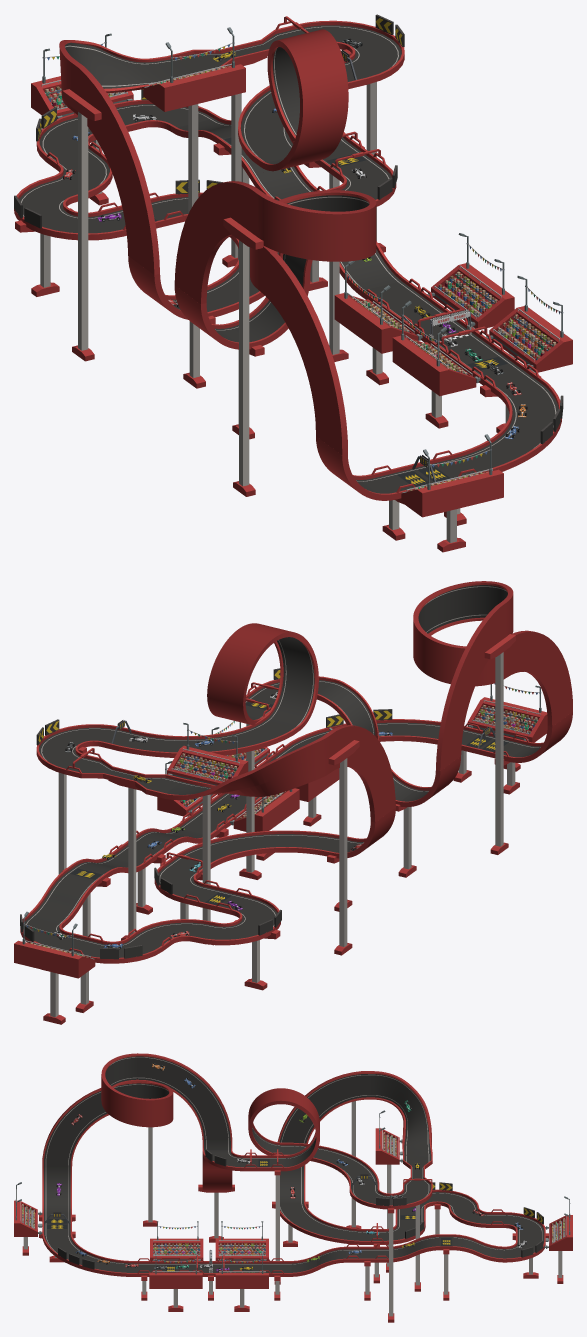
File: loopRacetrack.fbx
The picture shows the model from 3 angles, top to bottom: view 1: azimuth 30°, elevation 25°; view 2: azimuth 150°, elevation 25°; view 3: azimuth 270°, elevation 25°; orthographic projection. The views are drawn at different scales.
Parts seen in each view (by area): view 1: SR_Env_Raised_Track_Loop_Full_Red_1, SR_Env_Raised_Track_Loop_Full_Red, SR_Env_Raised_Track_Corner_Wide_Red_1, SR_Env_Raised_Track_Corner_Wide_Red_4, SR_Env_Raised_Track_Corner_Wide_Red_2, SR_Bld_Stands_Attach_Red_2 (×2), SR_Bld_Stands_Attach_Red_1 (×2), SR_Env_Raised_Track_Corner_Wide_Red, SR_Env_Raised_Track_Slope_Corner_Transition_Red, SR_Bld_Stands_Attach_Red_3 (×2), SR_Bld_Stands_Attach_Red, SR_Env_Raised_Track_Corner_Wide_Red_3 (+24 smaller); view 2: SR_Env_Raised_Track_Loop_Full_Red_1, SR_Env_Raised_Track_Loop_Full_Red, SR_Env_Raised_Track_Slope_Corner_Transition_Red, SR_Env_Raised_Track_Corner_Wide_Red_2, SR_Env_Raised_Track_Corner_Wide_Red_1, SR_Env_Raised_Track_Corner_Wide_Red_5, SR_Env_Raised_Track_Corner_Wide_Red_3, SR_Bld_Stands_Attach_Red_3 (×2), SR_Env_Raised_Track_Corner_Wide_Red_4, SR_Bld_Stands_Attach_Red_2 (×2), SR_Env_Raised_Track_Corner_Wide_Red, SR_Env_Raised_Track_Pillar_Pole_23 (+22 smaller); view 3: SR_Env_Raised_Track_Loop_Full_Red, SR_Env_Raised_Track_Corner_Wide_Red_2, SR_Env_Raised_Track_Slope_Corner_Transition_Red, SR_Env_Raised_Track_Corner_Wide_Red_1, SR_Env_Raised_Track_Corner_Wide_Red_4, SR_Env_Raised_Track_Loop_Full_Red_1, SR_Bld_Stands_Attach_Red_1 (×2), SR_Env_Raised_Track_Corner_Wide_Red_5, SR_Bld_Stands_Attach_Red_3 (×2), SR_Bld_Stands_Attach_Red_2 (×2), SR_Env_Raised_Track_Corner_Wide_Red, SR_Env_Raised_Track_Corner_Wide_Red_3 (+22 smaller).
Part boxes in pixels (bbox=[...]): SR_Env_Raised_Track_Loop_Full_Red_1: bbox=[260, 29, 349, 171]; SR_Env_Raised_Track_Loop_Full_Red: bbox=[250, 190, 376, 289]; SR_Env_Raised_Track_Corner_Wide_Red_1: bbox=[258, 246, 347, 455]; SR_Env_Raised_Track_Corner_Wide_Red_4: bbox=[70, 60, 159, 274]; SR_Env_Raised_Track_Corner_Wide_Red_2: bbox=[174, 181, 263, 304]; SR_Bld_Stands_Attach_Red_2 (×2): bbox=[143, 63, 514, 328]; SR_Bld_Stands_Attach_Red_1 (×2): bbox=[392, 306, 572, 396]; SR_Env_Raised_Track_Corner_Wide_Red: bbox=[453, 377, 561, 472]; SR_Env_Raised_Track_Slope_Corner_Transition_Red: bbox=[59, 40, 197, 109]; SR_Bld_Stands_Attach_Red_3 (×2): bbox=[31, 76, 422, 353]; SR_Bld_Stands_Attach_Red: bbox=[401, 468, 503, 517]; SR_Env_Raised_Track_Corner_Wide_Red_3: bbox=[238, 85, 293, 166]; SR_Env_Raised_Track_Loop_Full_Red_1: bbox=[207, 623, 318, 730]; SR_Env_Raised_Track_Loop_Full_Red: bbox=[413, 581, 513, 686]; SR_Env_Raised_Track_Slope_Corner_Transition_Red: bbox=[162, 734, 329, 800]; SR_Env_Raised_Track_Corner_Wide_Red_2: bbox=[436, 601, 506, 770]; SR_Env_Raised_Track_Corner_Wide_Red_1: bbox=[506, 630, 572, 726]; SR_Env_Raised_Track_Corner_Wide_Red_5: bbox=[172, 830, 352, 868]; SR_Env_Raised_Track_Corner_Wide_Red_3: bbox=[118, 717, 299, 757]; SR_Bld_Stands_Attach_Red_3 (×2): bbox=[14, 788, 299, 978]; SR_Env_Raised_Track_Corner_Wide_Red_4: bbox=[325, 725, 395, 822]; SR_Bld_Stands_Attach_Red_2 (×2): bbox=[157, 745, 248, 816]; SR_Env_Raised_Track_Corner_Wide_Red: bbox=[285, 719, 464, 751]; SR_Env_Raised_Track_Pillar_Pole_23: bbox=[495, 652, 503, 846]; SR_Env_Raised_Track_Loop_Full_Red: bbox=[101, 1053, 173, 1127]; SR_Env_Raised_Track_Corner_Wide_Red_2: bbox=[137, 1053, 232, 1141]; SR_Env_Raised_Track_Slope_Corner_Transition_Red: bbox=[370, 1071, 432, 1156]; SR_Env_Raised_Track_Corner_Wide_Red_1: bbox=[42, 1082, 137, 1168]; SR_Env_Raised_Track_Corner_Wide_Red_4: bbox=[277, 1071, 370, 1143]; SR_Env_Raised_Track_Loop_Full_Red_1: bbox=[248, 1088, 319, 1171]; SR_Bld_Stands_Attach_Red_1 (×2): bbox=[149, 1238, 203, 1288]; SR_Env_Raised_Track_Corner_Wide_Red_5: bbox=[280, 1201, 370, 1244]; SR_Bld_Stands_Attach_Red_3 (×2): bbox=[215, 1215, 572, 1260]; SR_Bld_Stands_Attach_Red_2 (×2): bbox=[215, 1128, 402, 1288]; SR_Env_Raised_Track_Corner_Wide_Red: bbox=[42, 1233, 137, 1276]; SR_Env_Raised_Track_Corner_Wide_Red_3: bbox=[284, 1142, 379, 1185].
Size of the model in its own units: 18249 by 14978 by 41853.
Materials: 1 (1 with a texture image).
